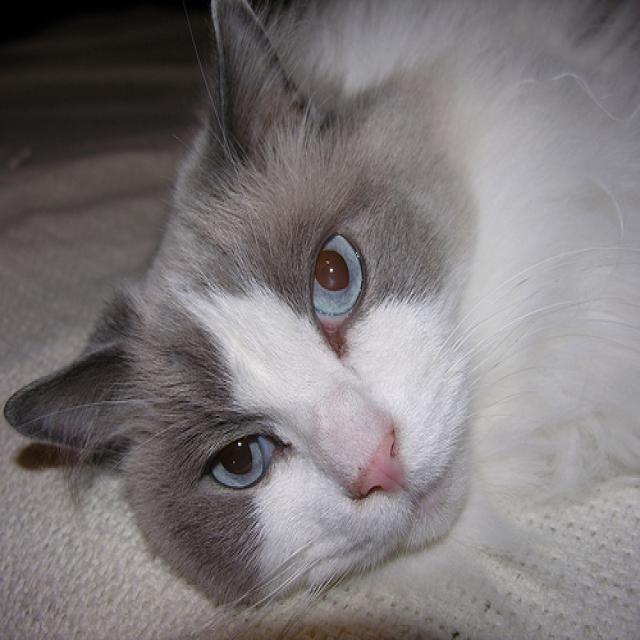Ragdoll: (1, 0, 475, 598)
